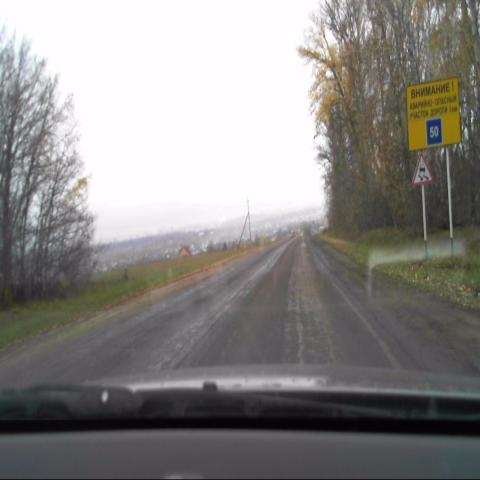1_15: (411, 154, 431, 186)
6_2: (426, 118, 442, 145)
